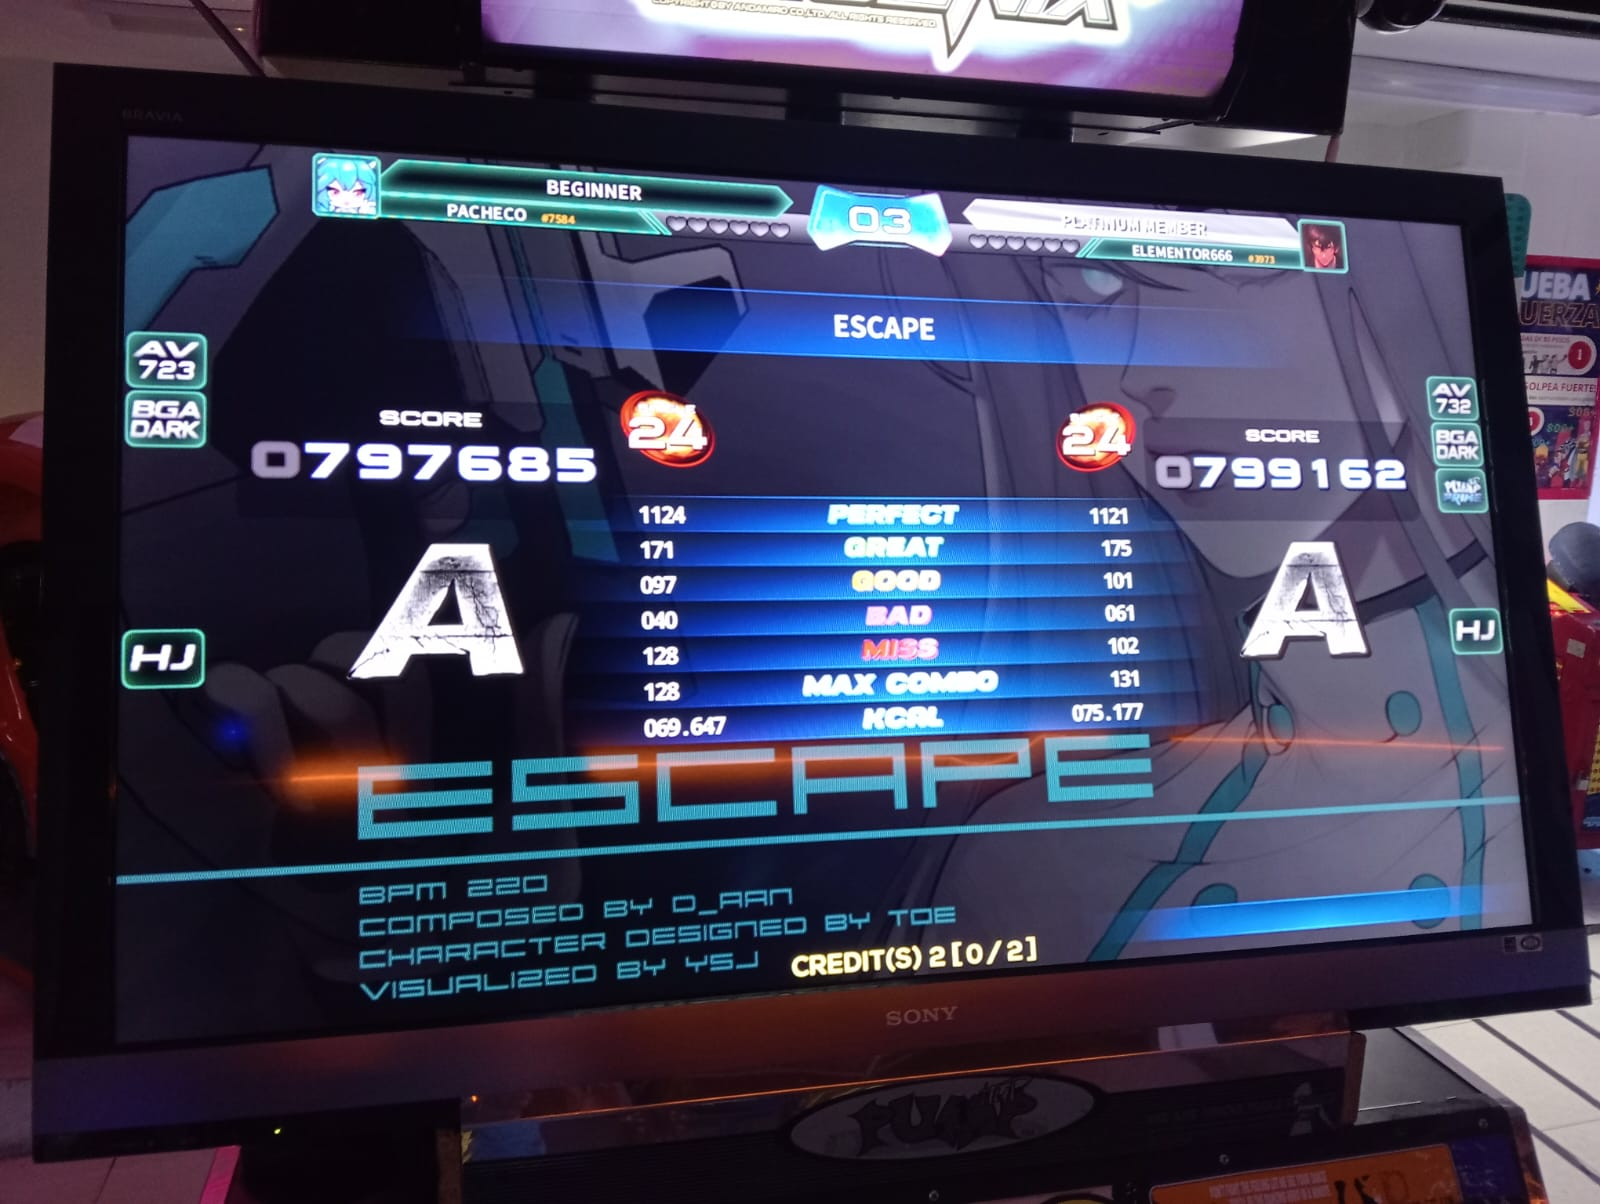difficulty: (1059, 398, 1138, 487)
fullscore: (689, 172, 1600, 1027)
rank: (1208, 536, 1381, 668)
score: (1138, 421, 1432, 498)
song_name: (754, 287, 993, 369)
